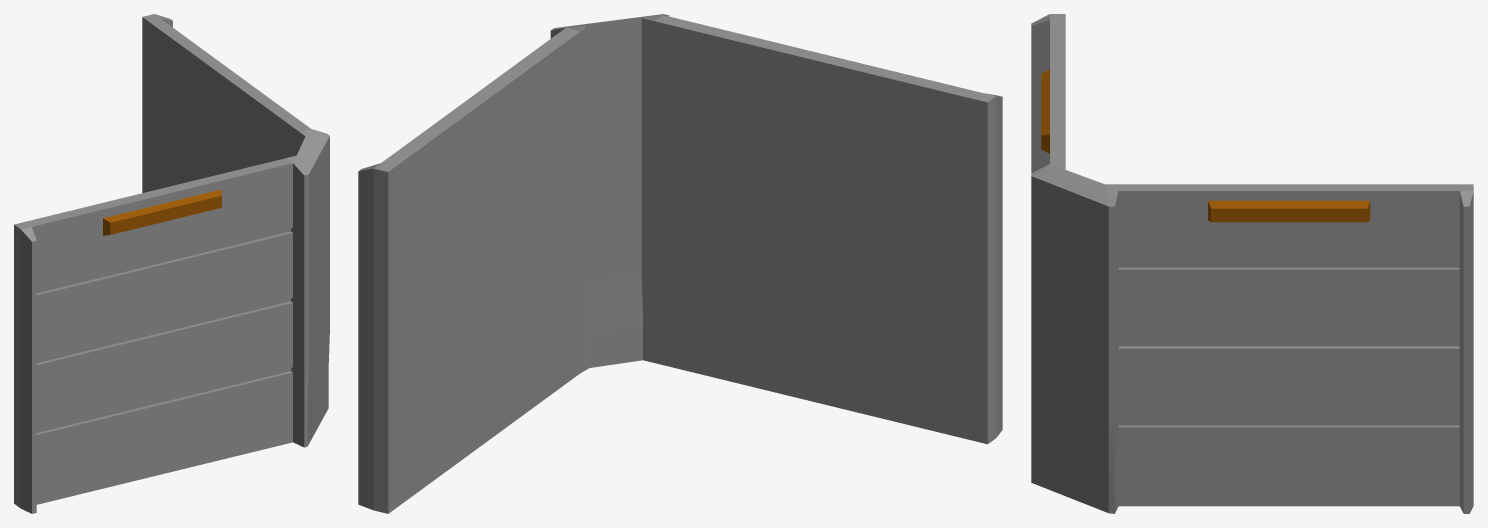
3 views of the same model, side by side, from view 1: azimuth 30°, elevation 25°; view 2: azimuth 150°, elevation 25°; view 3: azimuth 270°, elevation 25° (orthographic). The views are drawn at different scales.
Visible parts, largest first — view 1: Pared 13; view 2: Pared 13; view 3: Pared 13.
Part boxes in pixels (x1,y1,x2,y2): Pared 13: (14, 14, 329, 513); Pared 13: (358, 14, 1002, 513); Pared 13: (1031, 14, 1473, 513).
Size of the model in its own units: 217 by 173 by 219.
